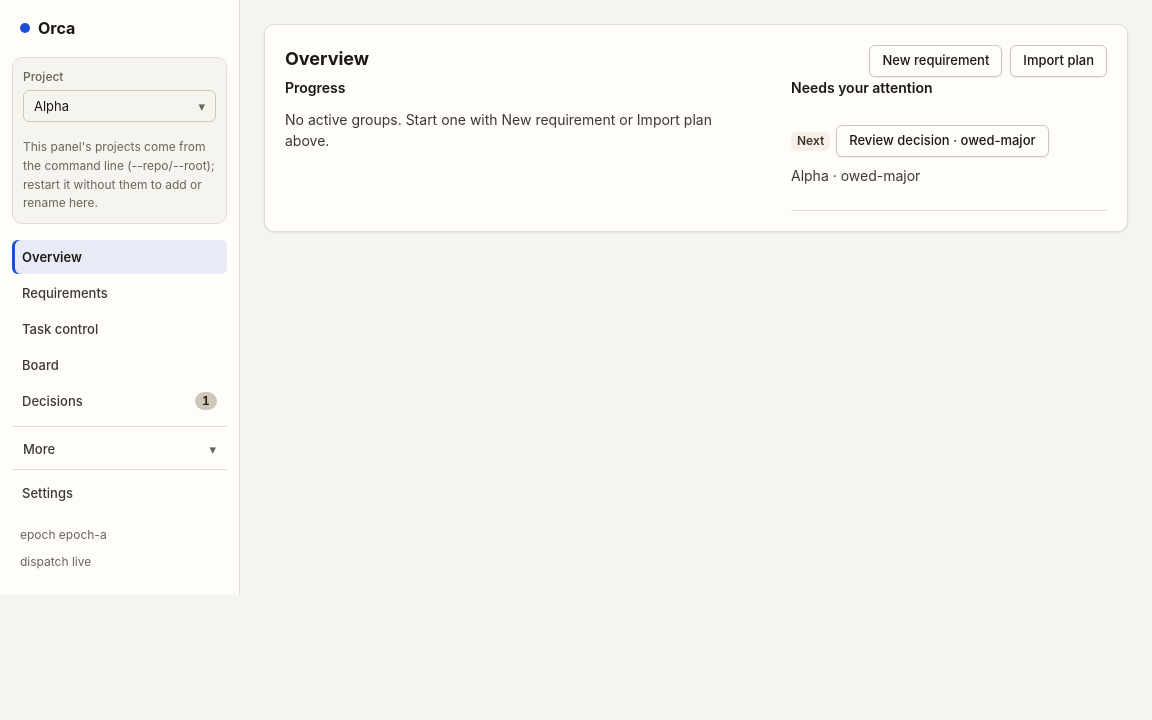
Scenario: counts and queues only non-minor to-do rows, and the Unreviewed list still reveals the minor one
Expected: the button "Review decision · owed-major" is shown, x1=836 y1=125 x2=1048 y2=157
Expected: the button "owed-minor" is not shown
What coordinates should you click on to do the following:
click the link "Decisions 1"
I would click on:
 (52, 401)
Its box is x1=22 y1=392 x2=217 y2=410.
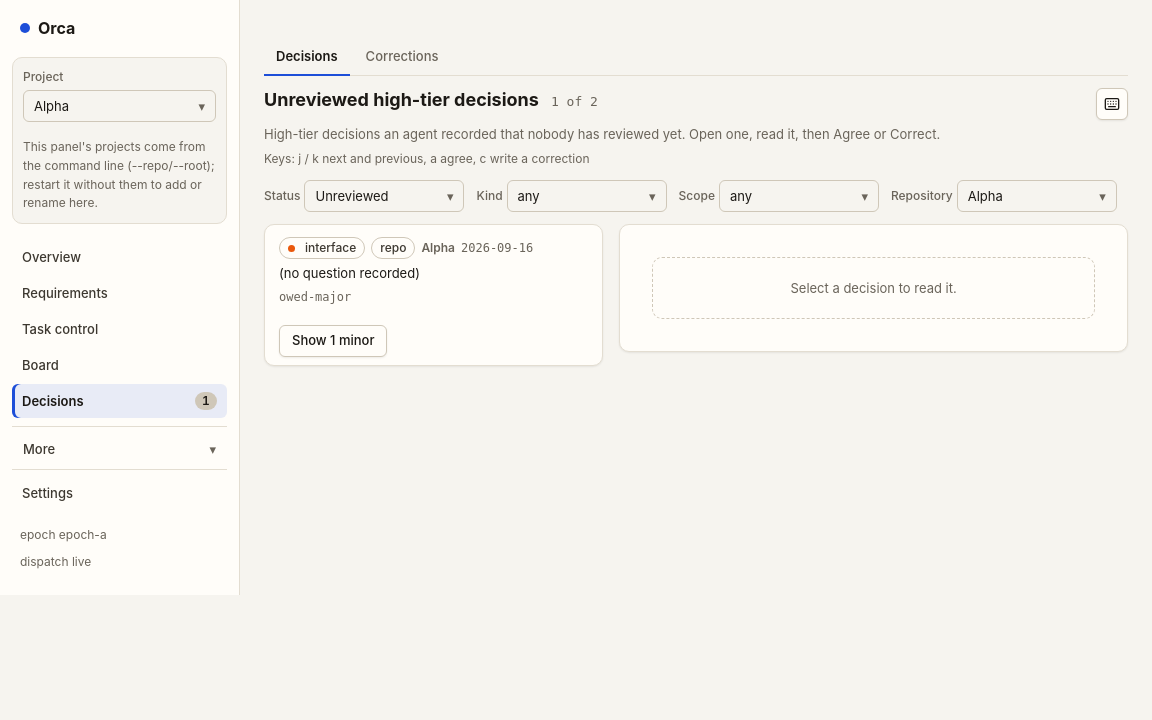
Expected: the text "owed-minor" is not shown
What coordinates should you click on to do the following:
click the button "Show 1 minor"
I would click on:
 (333, 341)
Its box is x1=279 y1=325 x2=388 y2=357.
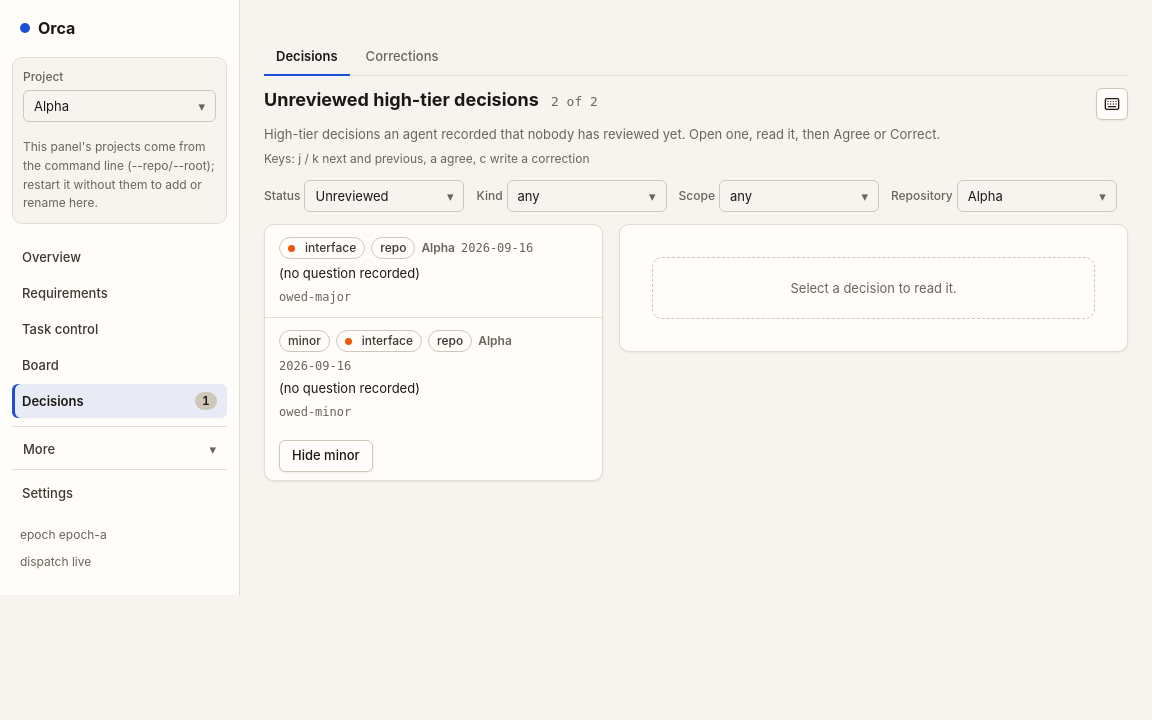
Expected: the text "owed-minor" is shown, x1=279 y1=405 x2=351 y2=419
